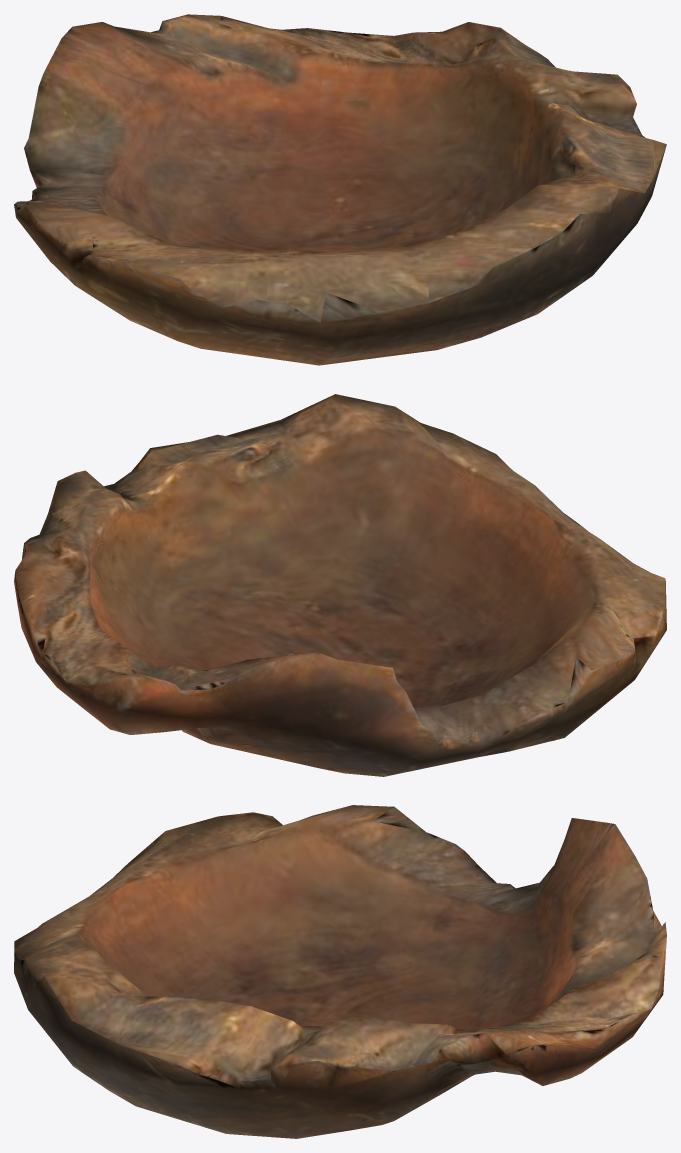
Rendered from wooden_bowl_01.glb.
3 renders of one model, top to bottom at view 1: azimuth 30°, elevation 25°; view 2: azimuth 150°, elevation 25°; view 3: azimuth 270°, elevation 25°, orthographic. The views are drawn at different scales.
Parts seen in each view (by area): view 1: lod0; view 2: lod0; view 3: lod0.
Part boxes in pixels (x1=…): lod0: x1=14, y1=14, x2=666, y2=365; lod0: x1=14, y1=394, x2=666, y2=776; lod0: x1=14, y1=805, x2=666, y2=1138.
Size of what is drawn, in the model's own units: 0.3132 by 0.0947 by 0.3089.
1 material, 1 textured.
